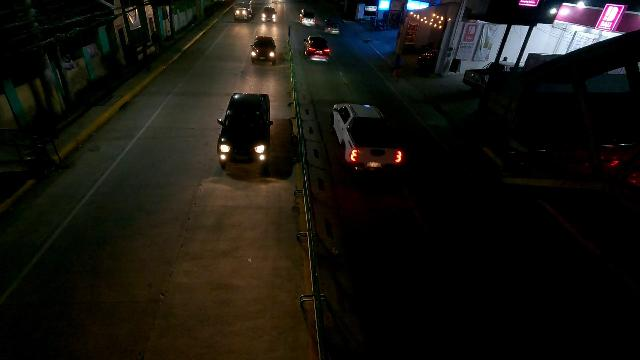car: (214, 89, 274, 174), (248, 33, 276, 66), (302, 35, 331, 65), (261, 6, 278, 23), (299, 10, 315, 27), (325, 20, 340, 35)
jeepney: (234, 0, 253, 22)
pickup-truck: (330, 99, 404, 168)
